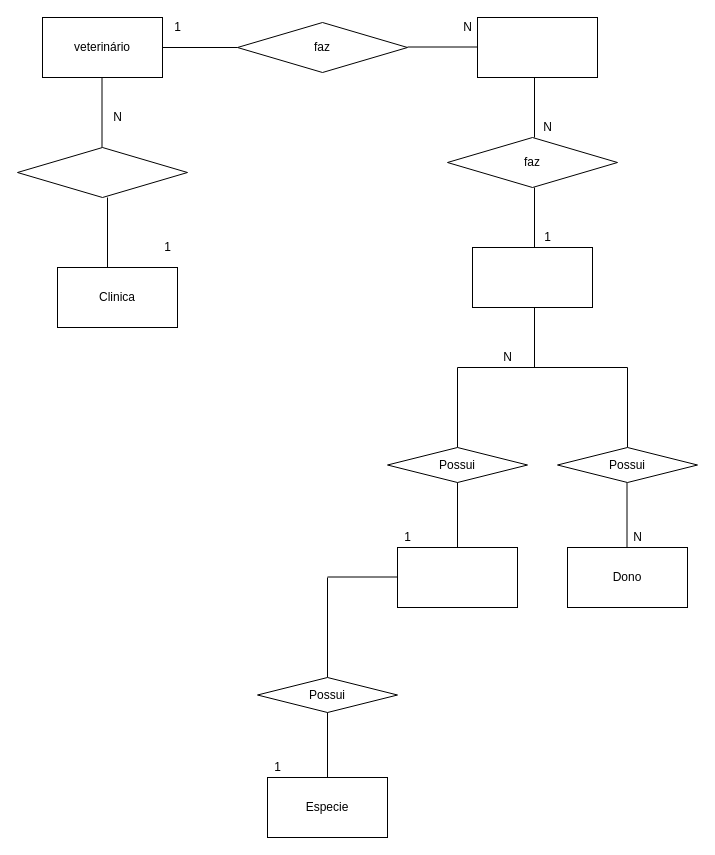
This 715x855 diagram has some shape labels left out. Each missing label, with the box of its shape:
Atendimento: (476, 16, 598, 78)
Pet: (472, 246, 592, 308)
Raça: (396, 546, 518, 608)
tem: (16, 146, 188, 198)
